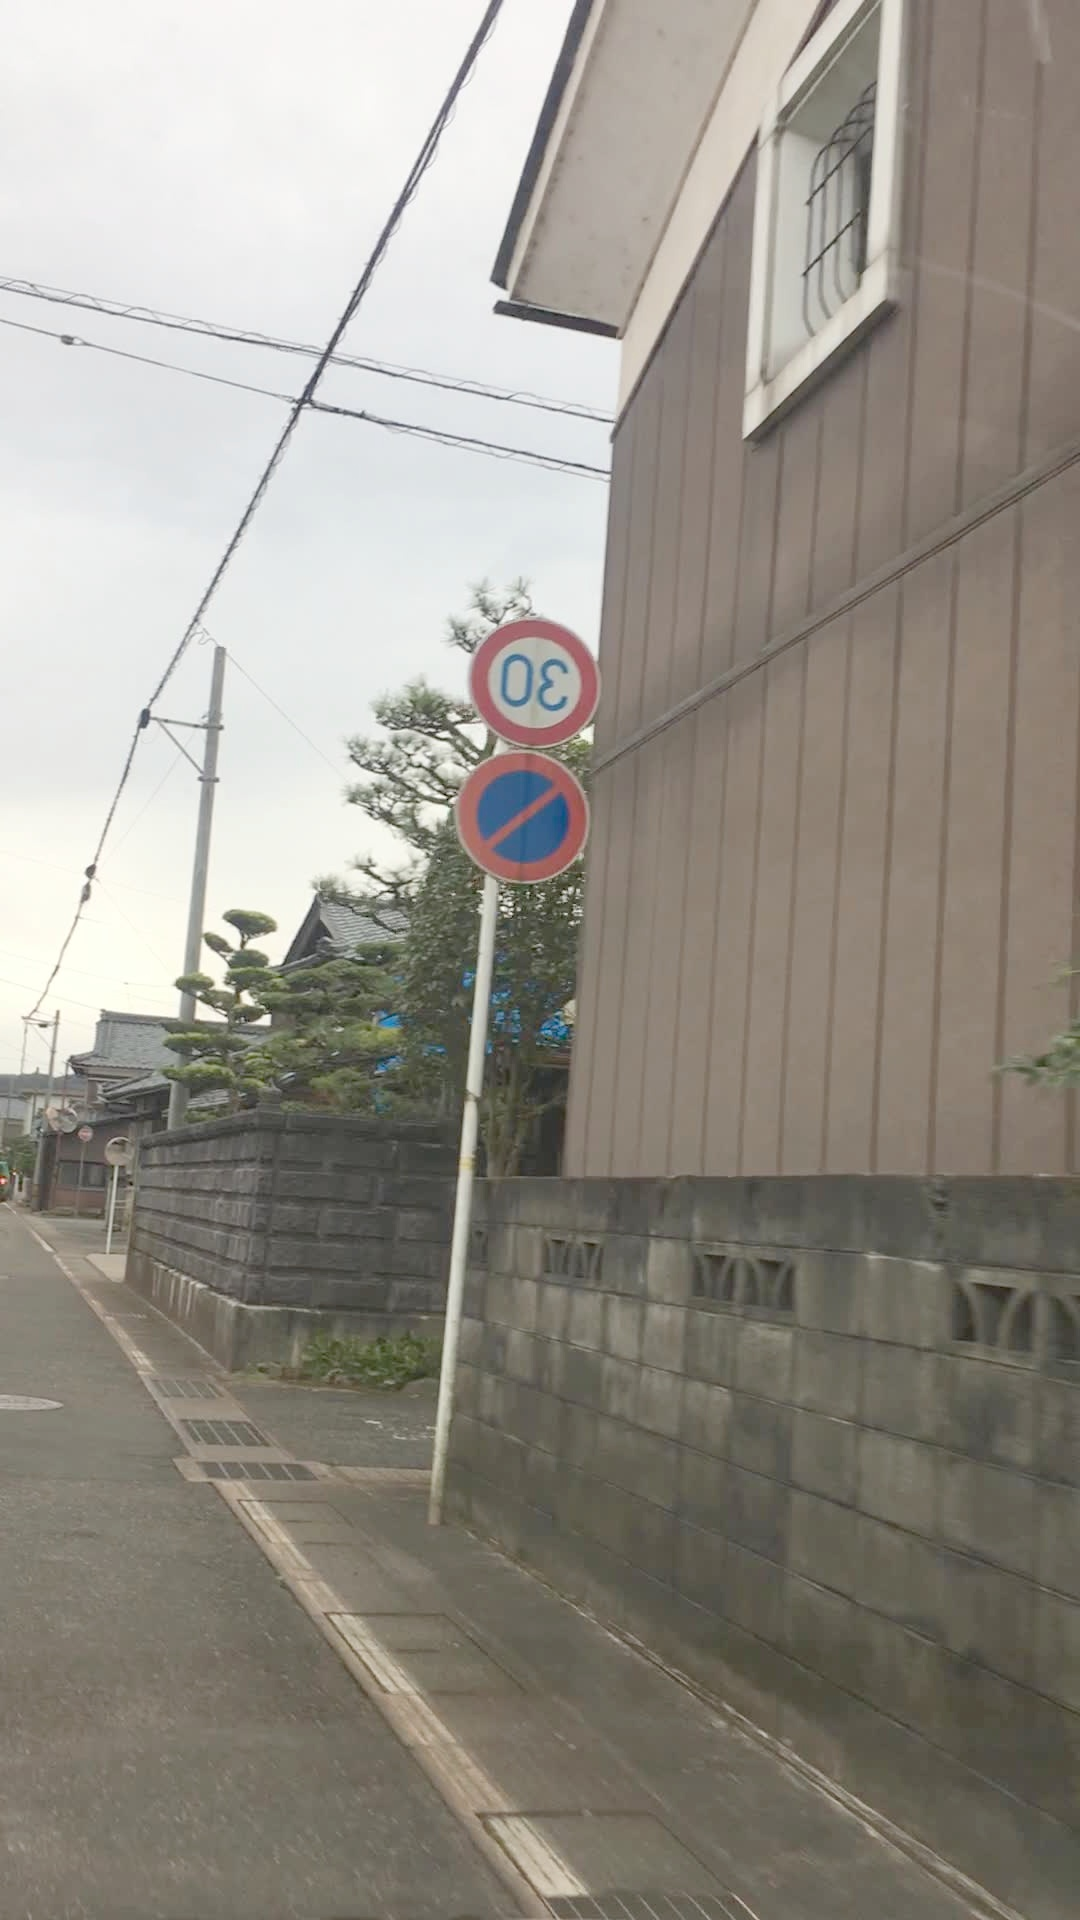Prohibition_sign: (458, 758, 611, 910)
Speed_sign: (458, 611, 615, 764)
